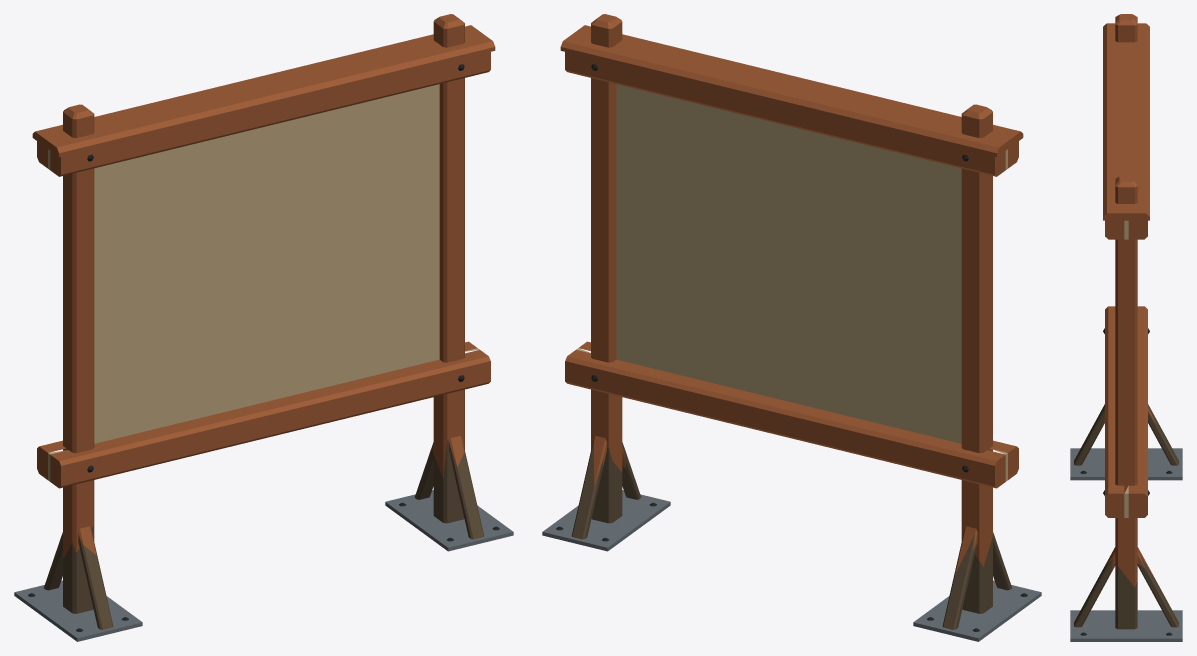
The model's file is safety-sign.glb.
3 views of the same model, side by side, from view 1: azimuth 30°, elevation 25°; view 2: azimuth 150°, elevation 25°; view 3: azimuth 270°, elevation 25° (orthographic). The views are drawn at different scales.
Visible parts, largest first — view 1: sign-board; view 2: sign-board; view 3: sign-board.
Boxes of the visible parts, <box> form: sign-board: <box>14,14,513,641</box>; sign-board: <box>542,14,1041,641</box>; sign-board: <box>1070,14,1182,641</box>.
Bounding box in the file's own units: 2 × 2.2 × 0.5001.
